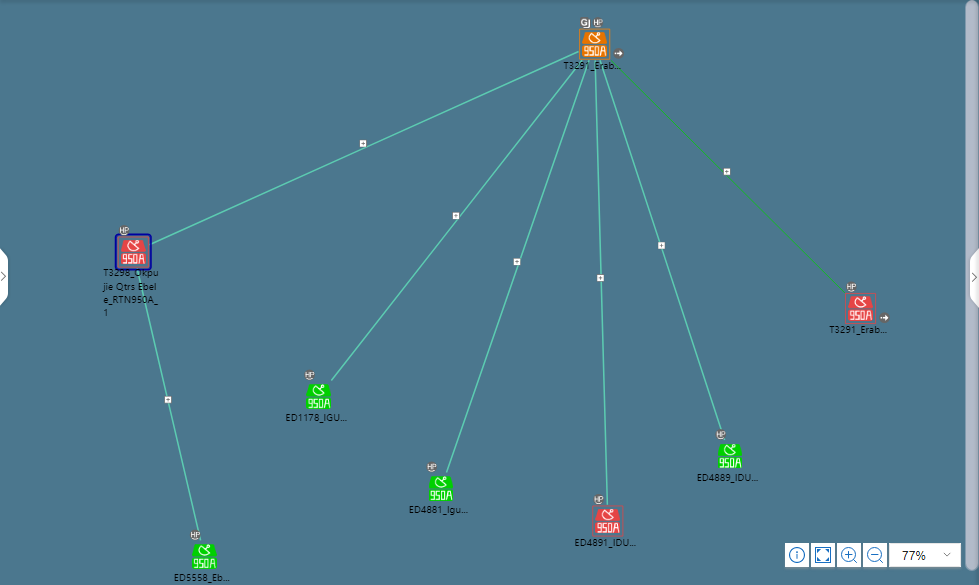Link_Blue: (150, 51, 572, 242), (327, 63, 574, 386), (444, 68, 586, 470), (597, 66, 730, 439), (138, 285, 203, 545), (590, 63, 613, 508)
Link_Green: (609, 57, 843, 291)
RTN_Green: (193, 546, 222, 569), (719, 442, 740, 471), (431, 479, 454, 501), (309, 387, 330, 409)
RTN_Orange: (578, 32, 613, 62)
RTN_Red: (590, 510, 626, 539), (847, 296, 877, 325), (119, 240, 148, 270)
